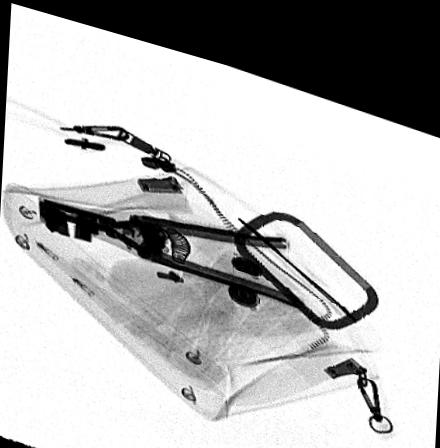Pliers: (38, 196, 304, 294)
